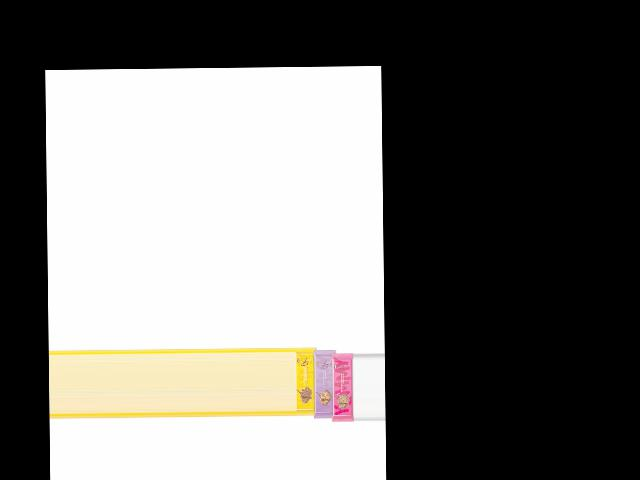chocolate: (331, 350, 354, 426)
